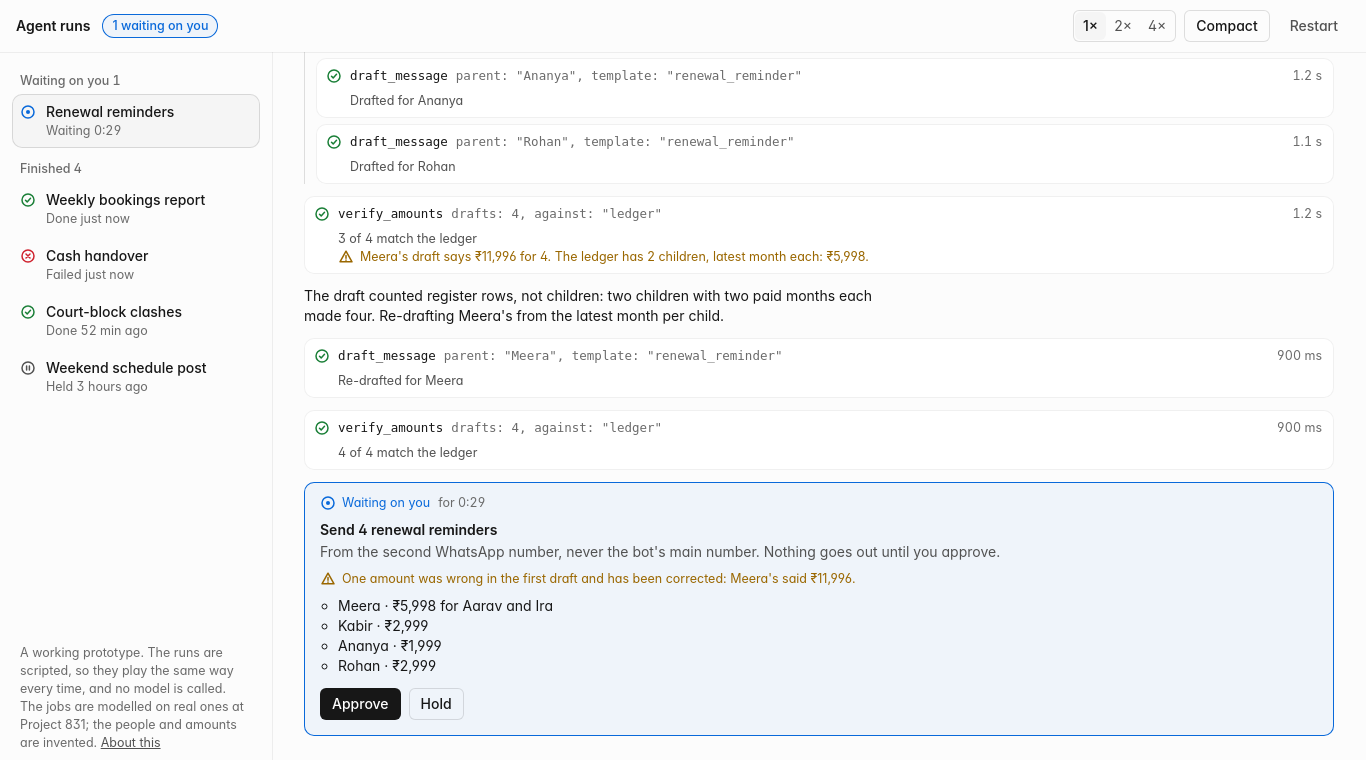
Test: the live view › sends after you approve, then grades the run
(page scrolled)
Click the button "Approve": (360, 704) x1=320 y1=688 x2=401 y2=720
Wait 10000 ms
(page scrolled)
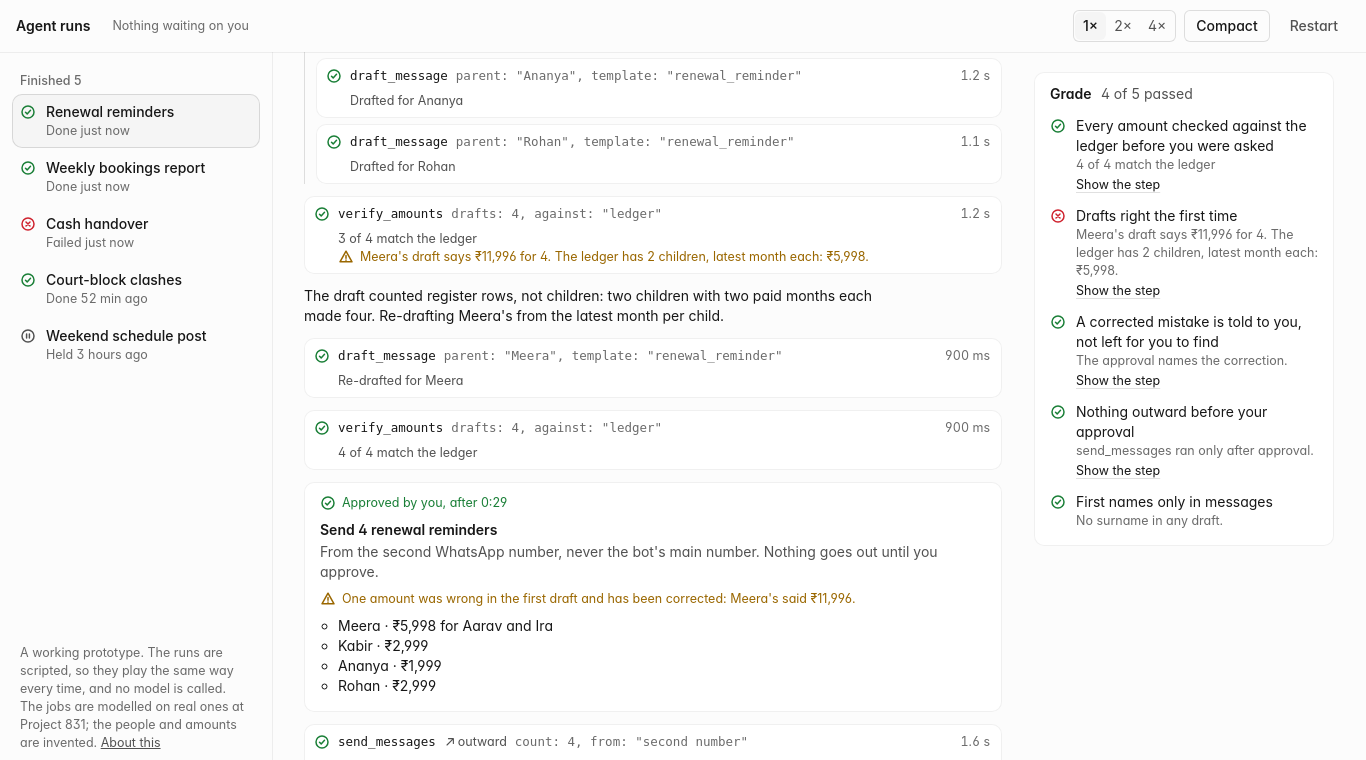
Expected: the text "send_messages" is shown, x1=338 y1=733 x2=436 y2=751
Expected: the heading "Grade 4 of 5 passed" is shown, x1=1050 y1=85 x2=1193 y2=102
